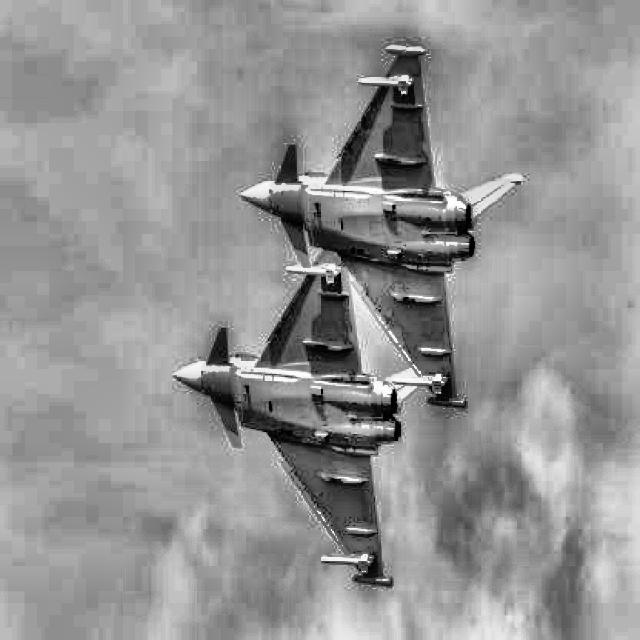EF2000: (239, 44, 524, 410), (172, 249, 420, 588)
